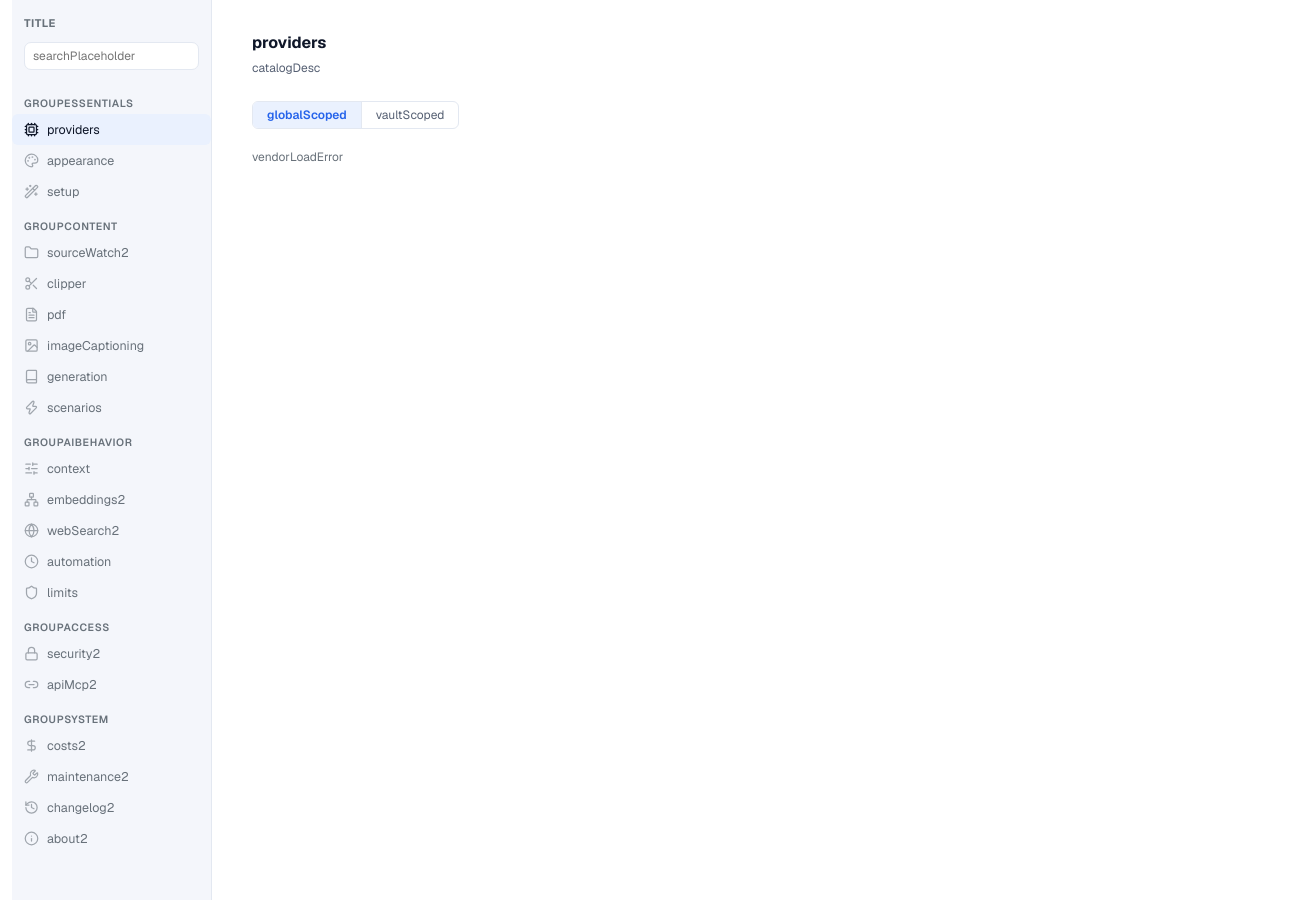
it: SectionCosts — threshold alert badge (AC-R9-1-3) › shows costs-threshold-alert when threshold_alert=true
This screenshot has width=1292, height=900.
Click the button "costs2".
click(112, 746)  # box [12, 730, 211, 761]
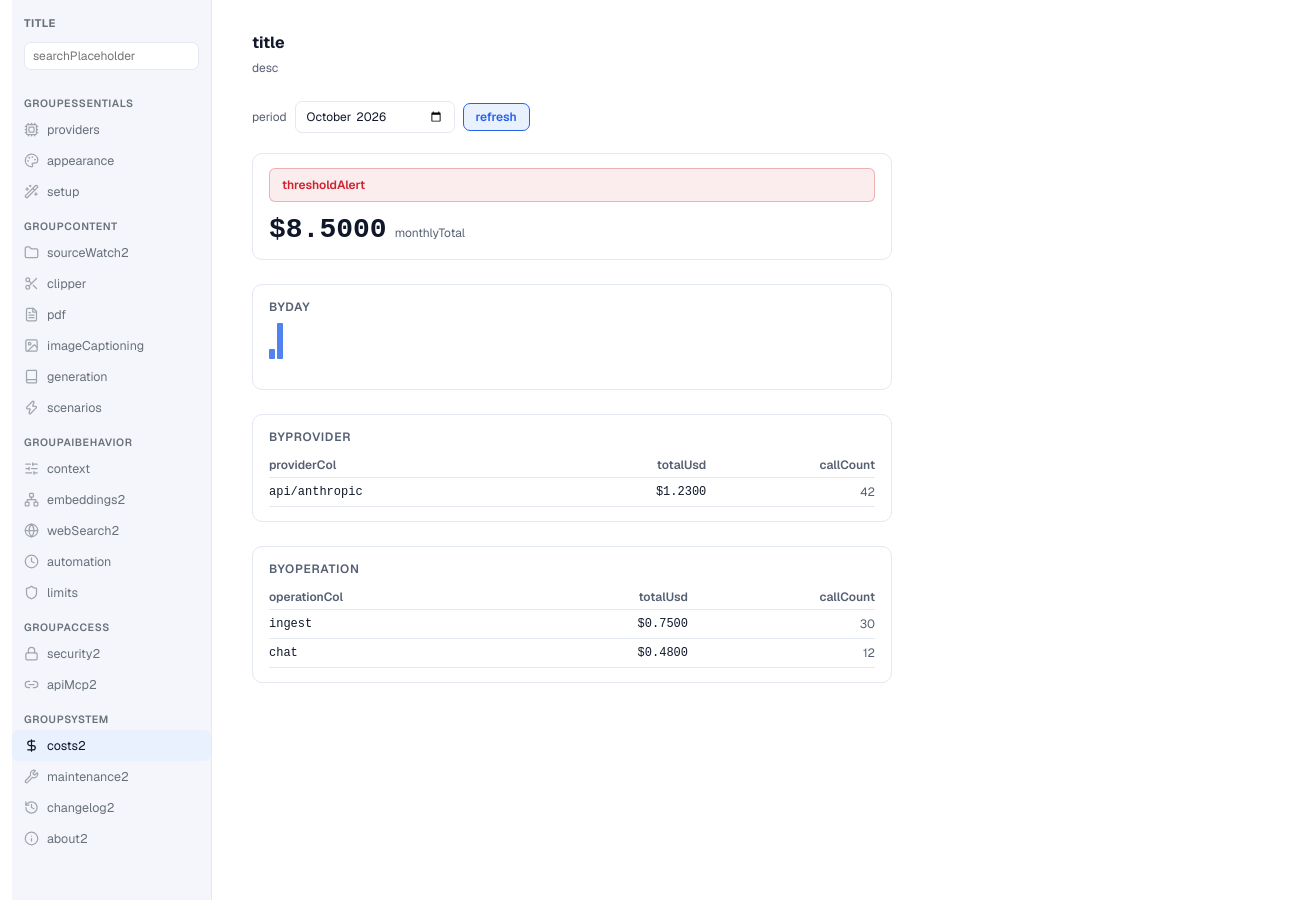
Expected: the message "thresholdAlert" is shown, [269, 168, 875, 202]
